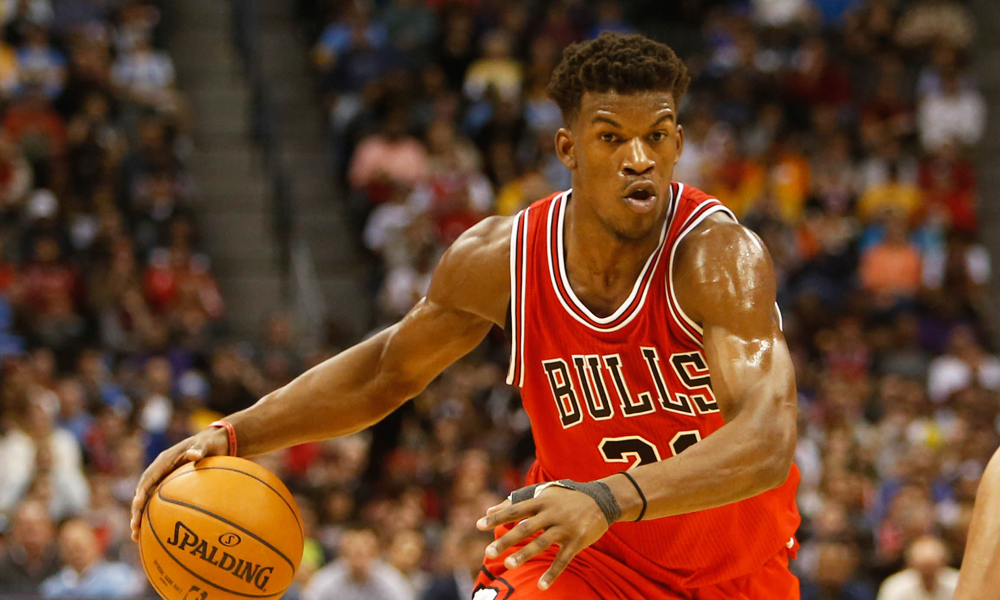basketball: (134, 454, 306, 600)
